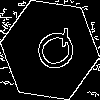Q: (25, 25, 80, 79)
